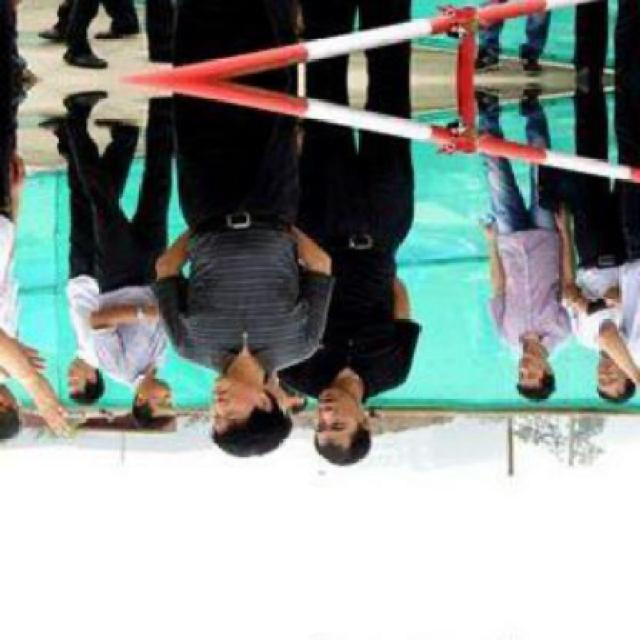sin casco: (184, 346, 314, 458), (300, 377, 388, 453), (504, 332, 564, 410), (582, 335, 634, 409), (132, 367, 188, 424)
